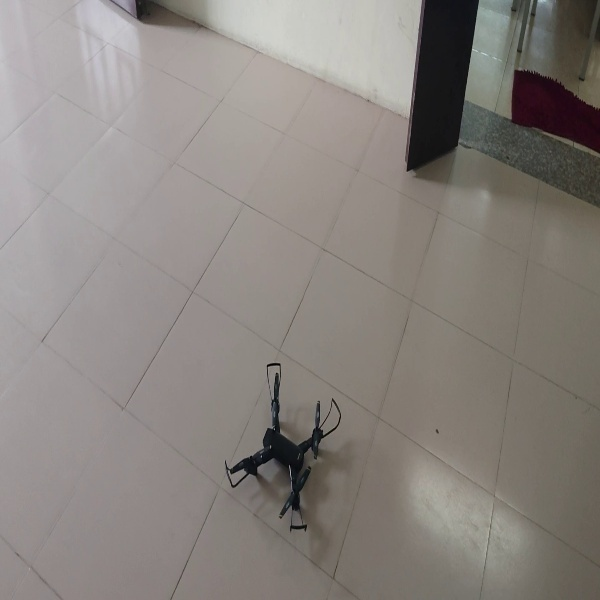drone: (221, 358, 343, 532)
